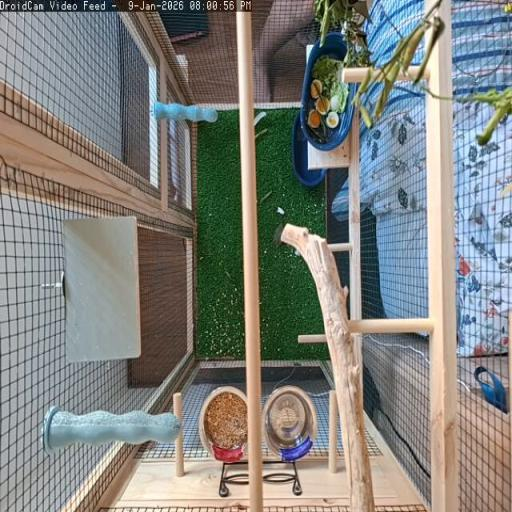bebedero: (263, 386, 317, 461)
comedero: (199, 386, 246, 463)
